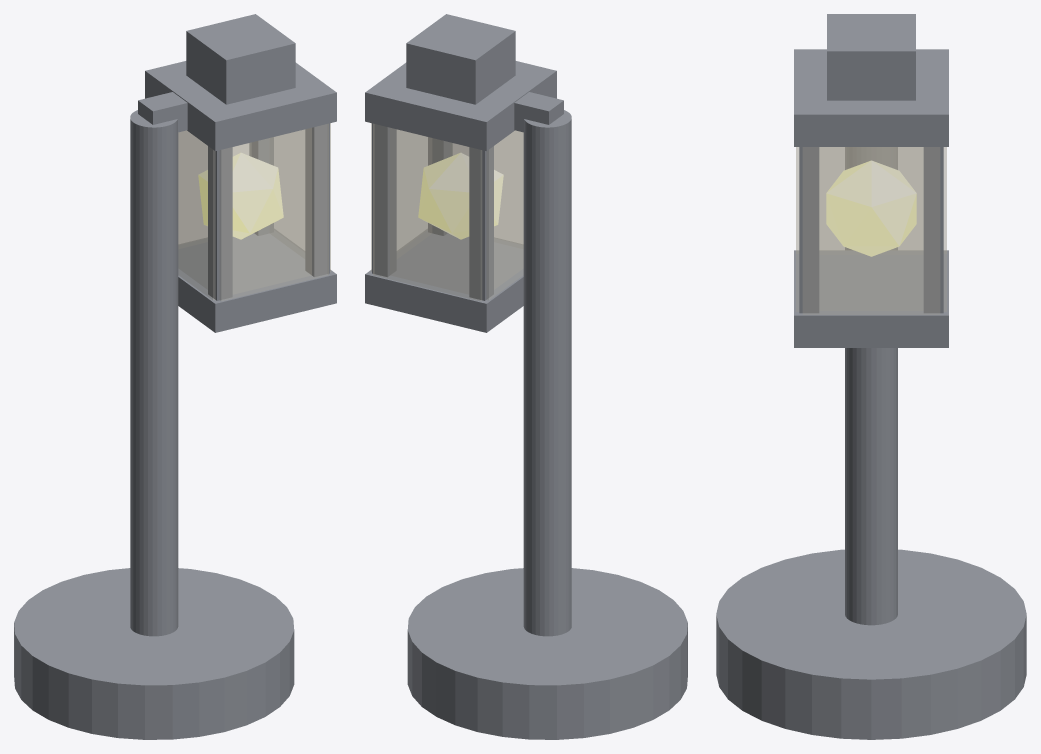
The model's file is mine_lantern.glb.
3 renders of one model, left to right at view 1: azimuth 30°, elevation 25°; view 2: azimuth 150°, elevation 25°; view 3: azimuth 270°, elevation 25°, orthographic. The views are drawn at different scales.
Parts seen in each view (by area): view 1: LanternBase, LanternPost, Glass_-0.32, CageBottom, CageTop, CageCap, GlassX_-0.32, LanternFlame, Bar_-0.28_-0.28, Bar_0.28_-0.28, GlassX_0.32, Glass_0.32 (+2 smaller); view 2: LanternBase, LanternPost, Glass_0.32, CageBottom, CageTop, CageCap, GlassX_-0.32, LanternFlame, Bar_-0.28_0.28, Bar_0.28_0.28, GlassX_0.32, Glass_-0.32 (+2 smaller); view 3: LanternBase, GlassX_0.32, LanternPost, CageBottom, CageTop, CageCap, LanternFlame, GlassX_-0.32, Bar_0.28_0.28, Bar_0.28_-0.28, Glass_0.32, Glass_-0.32.
Part boxes in pixels (x1,y1,x2,y2): LanternBase: [14, 568, 294, 739]; LanternPost: [130, 110, 178, 636]; Glass_-0.32: [220, 123, 328, 300]; CageBottom: [178, 229, 336, 332]; CageTop: [145, 61, 336, 150]; CageCap: [186, 14, 295, 104]; GlassX_-0.32: [178, 130, 215, 299]; LanternFlame: [198, 153, 283, 239]; Bar_-0.28_-0.28: [208, 146, 232, 300]; Bar_0.28_-0.28: [305, 123, 329, 277]; GlassX_0.32: [274, 123, 330, 271]; Glass_0.32: [178, 131, 249, 245]; LanternBase: [407, 568, 687, 739]; LanternPost: [523, 110, 571, 636]; Glass_0.32: [373, 123, 481, 300]; CageBottom: [365, 229, 523, 332]; CageTop: [365, 61, 556, 150]; CageCap: [406, 14, 515, 104]; GlassX_-0.32: [486, 130, 523, 299]; LanternFlame: [418, 153, 503, 239]; Bar_-0.28_0.28: [469, 146, 493, 300]; Bar_0.28_0.28: [372, 123, 396, 277]; GlassX_0.32: [371, 123, 427, 271]; Glass_-0.32: [452, 131, 523, 245]; LanternBase: [716, 549, 1026, 739]; GlassX_0.32: [803, 147, 939, 314]; LanternPost: [845, 147, 897, 625]; CageBottom: [794, 250, 948, 347]; CageTop: [794, 49, 948, 146]; CageCap: [827, 14, 915, 100]; LanternFlame: [826, 160, 916, 256]; GlassX_-0.32: [819, 147, 923, 250]; Bar_0.28_0.28: [923, 147, 943, 313]; Bar_0.28_-0.28: [799, 147, 819, 313]; Glass_0.32: [943, 147, 946, 311]; Glass_-0.32: [796, 147, 799, 311].
Size of the model in its own units: 1.55 by 3.42 by 1.4.
